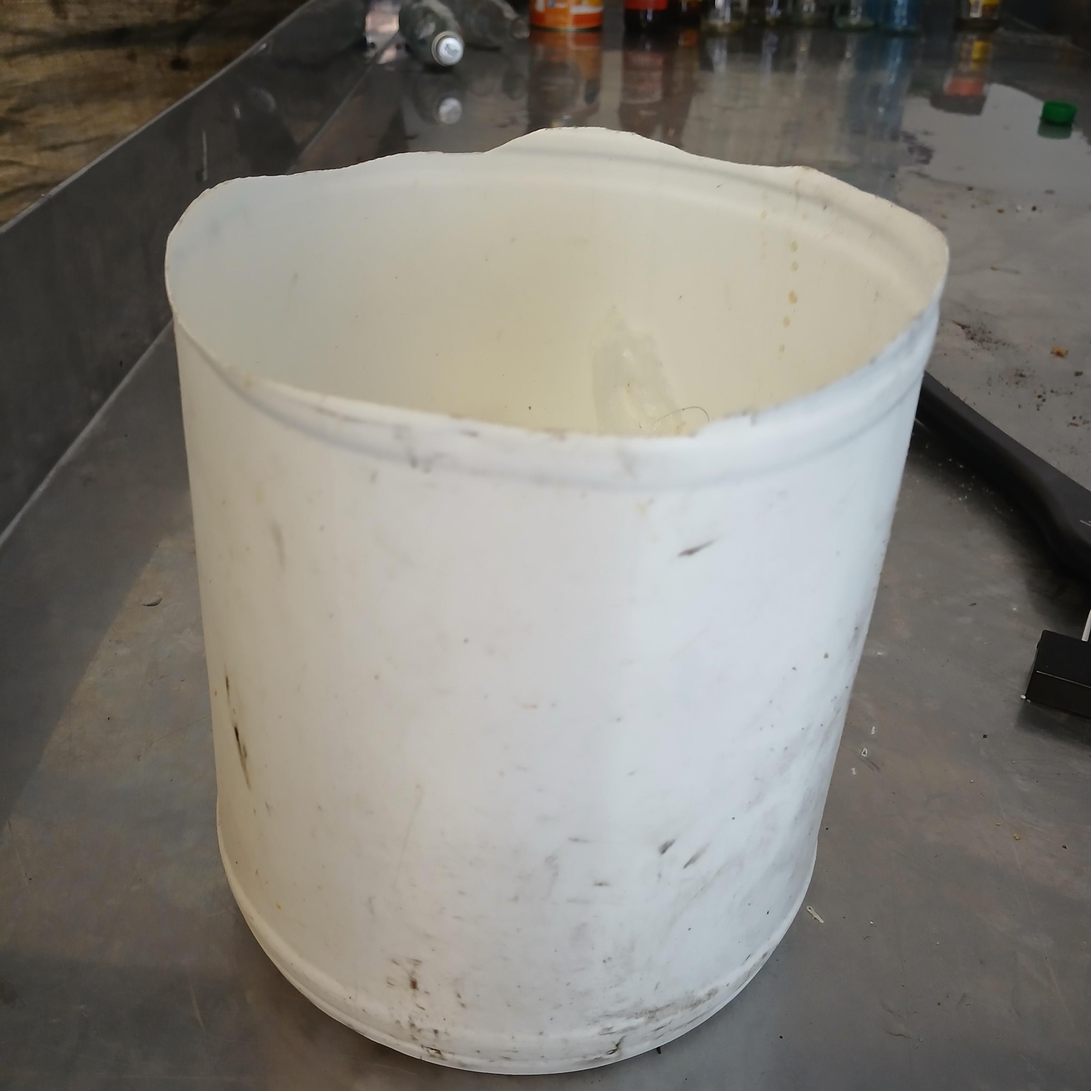Plastico: (163, 125, 948, 1074)
